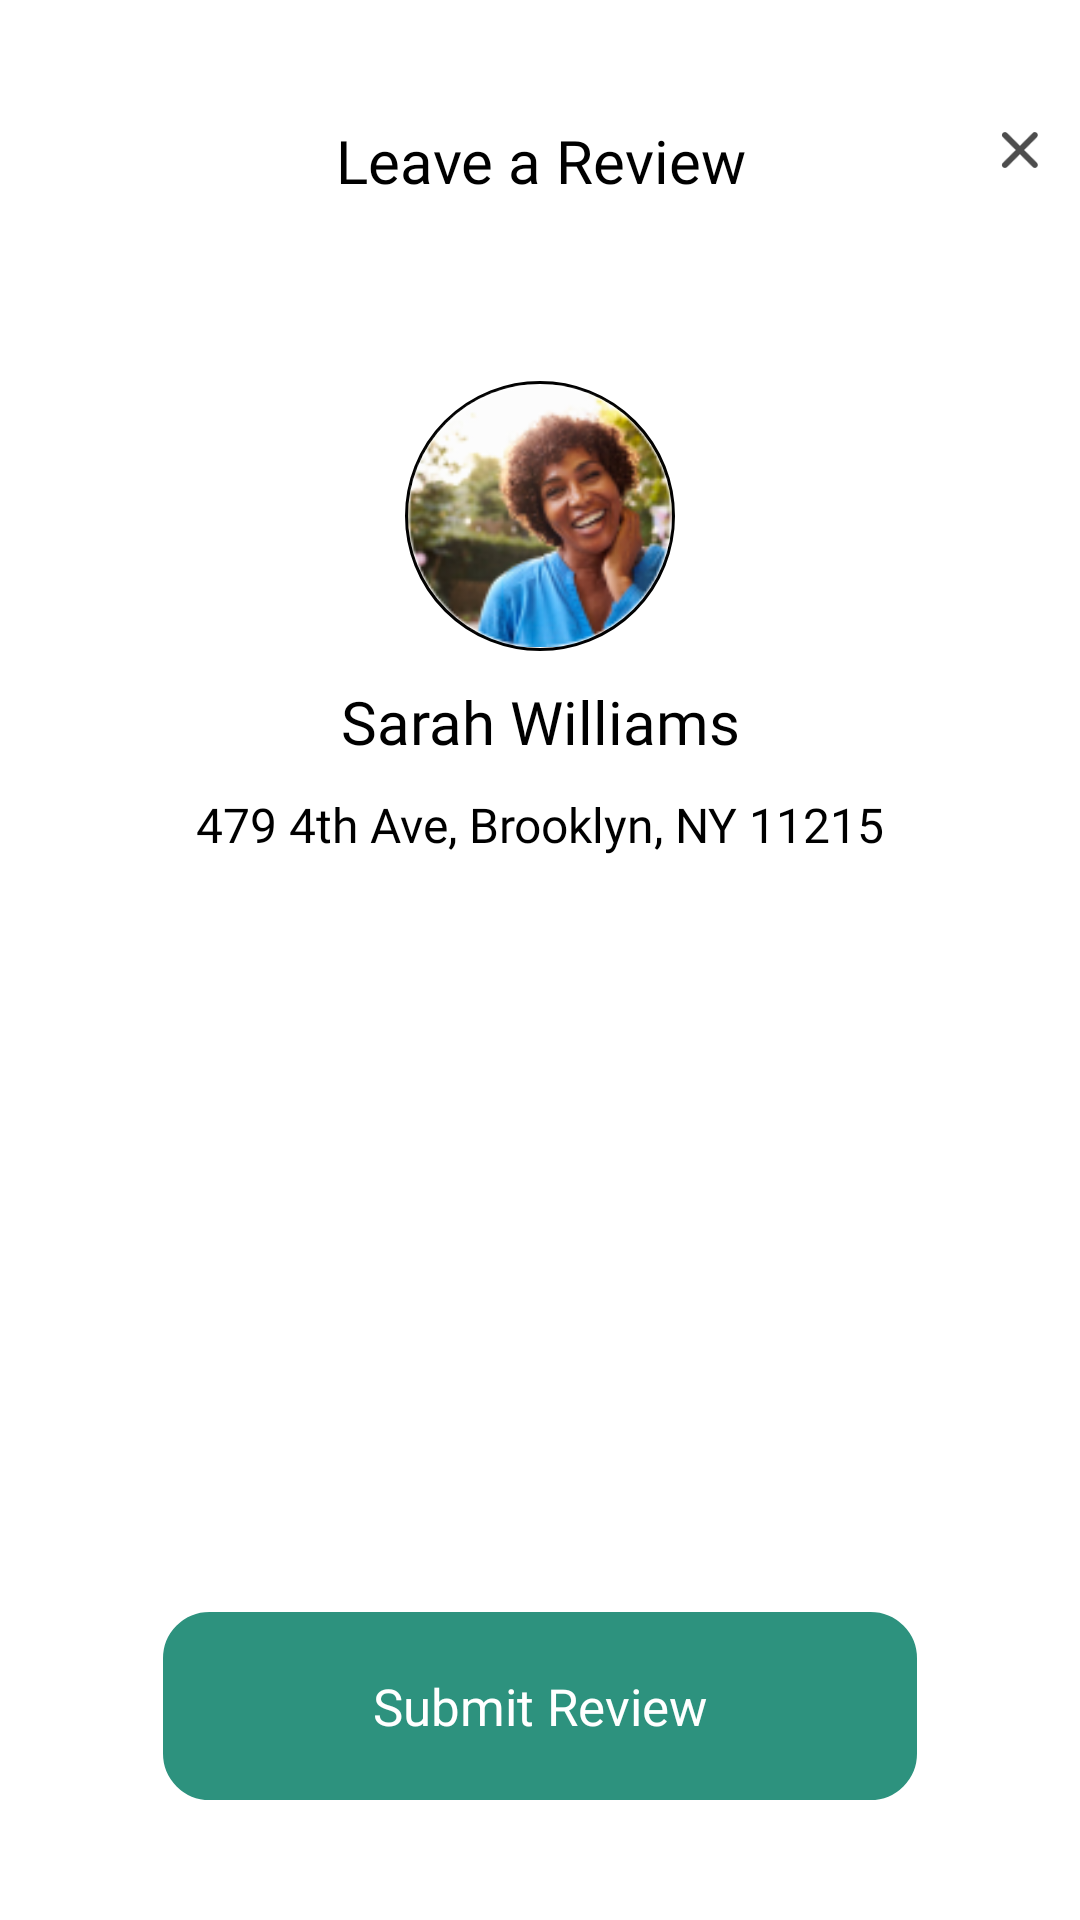

Icon click points for this 1080w x 1920h phone screenshot, format (x=x, y=y):
close: (x=1020, y=150)
